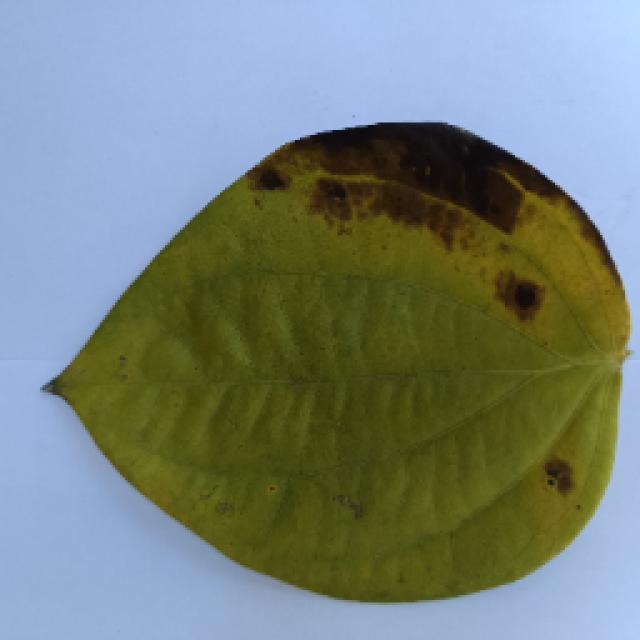slow-decline: (15, 122, 623, 612)
